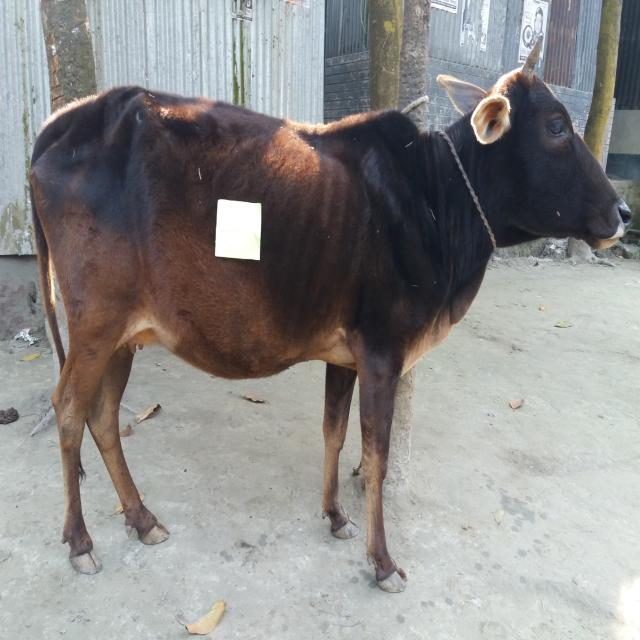badan_sapi: (59, 107, 406, 382)
sapi: (17, 45, 640, 596)
